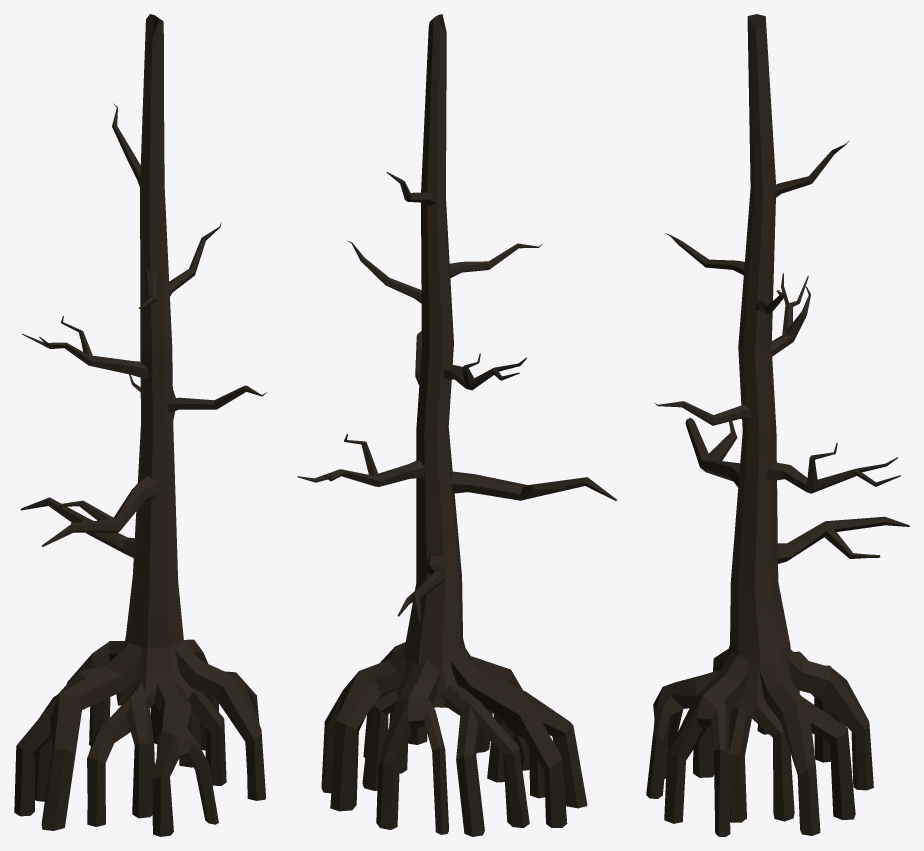
File: synty-tree-swamp-03.gltf
The picture shows the model from 3 angles, left to right: view 1: azimuth 30°, elevation 25°; view 2: azimuth 150°, elevation 25°; view 3: azimuth 270°, elevation 25°; orthographic projection.
Parts seen in each view (by area): view 1: SM_Tree_Swamp_03; view 2: SM_Tree_Swamp_03; view 3: SM_Tree_Swamp_03.
Boxes of the visible parts, bbox=[...] form: SM_Tree_Swamp_03: bbox=[14, 14, 267, 836]; SM_Tree_Swamp_03: bbox=[297, 14, 617, 836]; SM_Tree_Swamp_03: bbox=[646, 14, 909, 836].
Size of the model in its own units: 2.38 by 7.43 by 2.27.
Materials: 1 (1 with a texture image).
